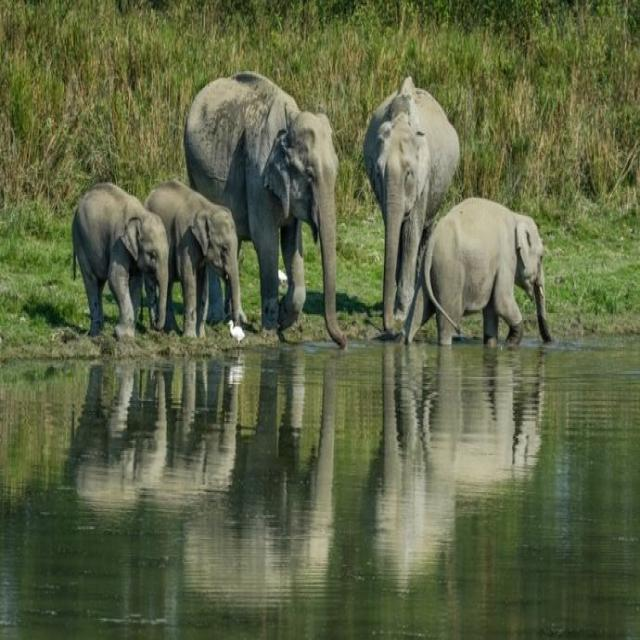Elephant: (184, 68, 344, 362), (358, 79, 458, 373), (416, 198, 558, 354), (69, 171, 168, 359), (146, 171, 246, 342)
